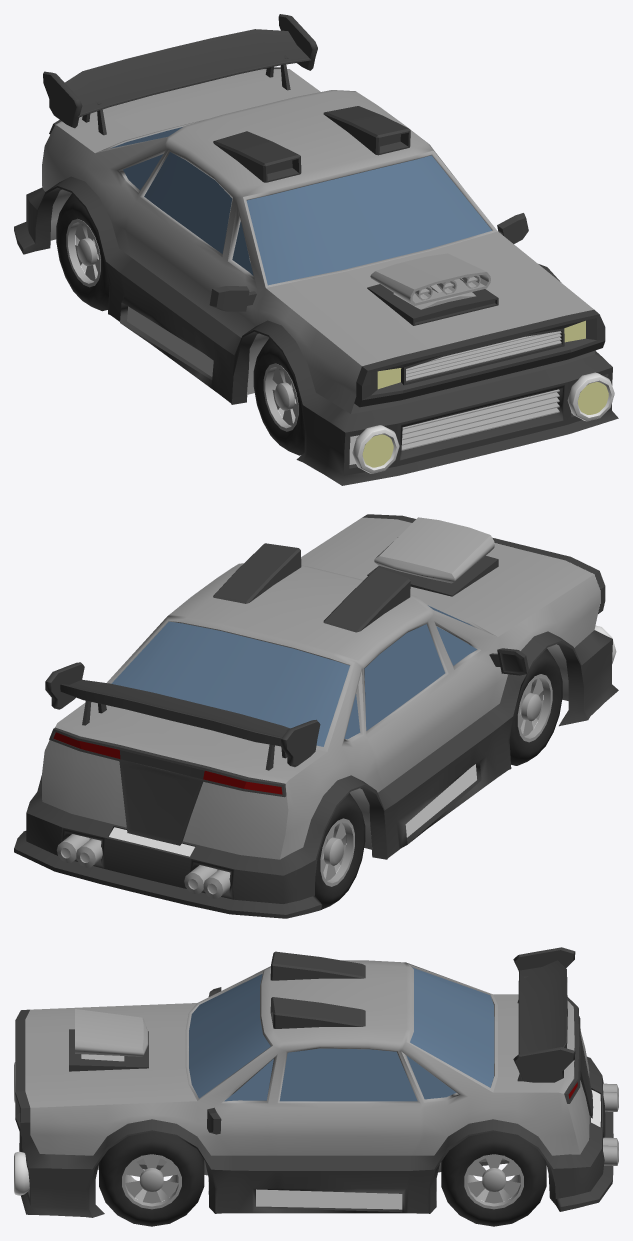
File: muscle_SilverPhong.glb
3 views of the same model, one above another, from view 1: azimuth 30°, elevation 25°; view 2: azimuth 150°, elevation 25°; view 3: azimuth 270°, elevation 25° (orthographic). The views are drawn at different scales.
Visible parts, largest first — view 1: body:PIV, sill4:PIV, frontGlass:PIV, Spoiler4:PIV, frontBlockGrid:PIV, glasseBigR:PIV, engine:PIV, front_down_grid:PIV, airtrap_r:PIV, airtrap_l:PIV, front_up_grid:PIV, tire_rf:PIV (+12 smaller); view 2: body:PIV, sill4:PIV, BackGlassGlass:PIV, Spoiler4:PIV, blockBackLights:PIV, engine:PIV, glasseBigR:PIV, airtrap_r:PIV, airtrap_l:PIV, tire_rf2:PIV, tire_rf:PIV, rim_A_rf:PIV (+10 smaller); view 3: body:PIV, sill4:PIV, BackGlassGlass:PIV, Spoiler4:PIV, glasseBigL:PIV, frontGlass:PIV, tire_lf:PIV, tire_lb:PIV, engine:PIV, sillPartL:PIV, rim_A_lf:PIV, rim_A_lb:PIV (+10 smaller).
Boxes of the visible parts, x1,y1,x2,y2 form: body:PIV: [42, 69, 595, 413]; sill4:PIV: [14, 176, 618, 485]; frontGlass:PIV: [246, 155, 491, 285]; Spoiler4:PIV: [43, 14, 317, 135]; frontBlockGrid:PIV: [354, 309, 605, 407]; glasseBigR:PIV: [144, 152, 232, 253]; engine:PIV: [370, 253, 490, 309]; front_down_grid:PIV: [401, 389, 559, 450]; airtrap_r:PIV: [213, 131, 301, 182]; airtrap_l:PIV: [323, 106, 410, 155]; front_up_grid:PIV: [406, 331, 561, 381]; tire_rf:PIV: [56, 194, 109, 311]; body:PIV: [42, 517, 599, 859]; sill4:PIV: [14, 630, 618, 918]; BackGlassGlass:PIV: [111, 621, 349, 746]; Spoiler4:PIV: [45, 662, 320, 770]; blockBackLights:PIV: [49, 727, 286, 845]; engine:PIV: [374, 517, 494, 583]; glasseBigR:PIV: [364, 624, 444, 730]; airtrap_r:PIV: [323, 567, 410, 632]; airtrap_l:PIV: [213, 543, 301, 603]; tire_rf2:PIV: [509, 648, 562, 765]; tire_rf:PIV: [315, 793, 365, 909]; rim_A_rf:PIV: [517, 674, 552, 742]; body:PIV: [25, 960, 589, 1200]; sill4:PIV: [19, 1056, 613, 1217]; BackGlassGlass:PIV: [410, 967, 494, 1087]; Spoiler4:PIV: [513, 947, 575, 1082]; glasseBigL:PIV: [279, 1048, 417, 1101]; frontGlass:PIV: [189, 974, 270, 1098]; tire_lf:PIV: [99, 1132, 204, 1226]; tire_lb:PIV: [441, 1132, 546, 1226]; engine:PIV: [75, 1009, 148, 1061]; sillPartL:PIV: [256, 1189, 402, 1209]; rim_A_lf:PIV: [122, 1154, 181, 1209]; rim_A_lb:PIV: [464, 1154, 523, 1209].
Size of the model in its own units: 177 by 120 by 337.
